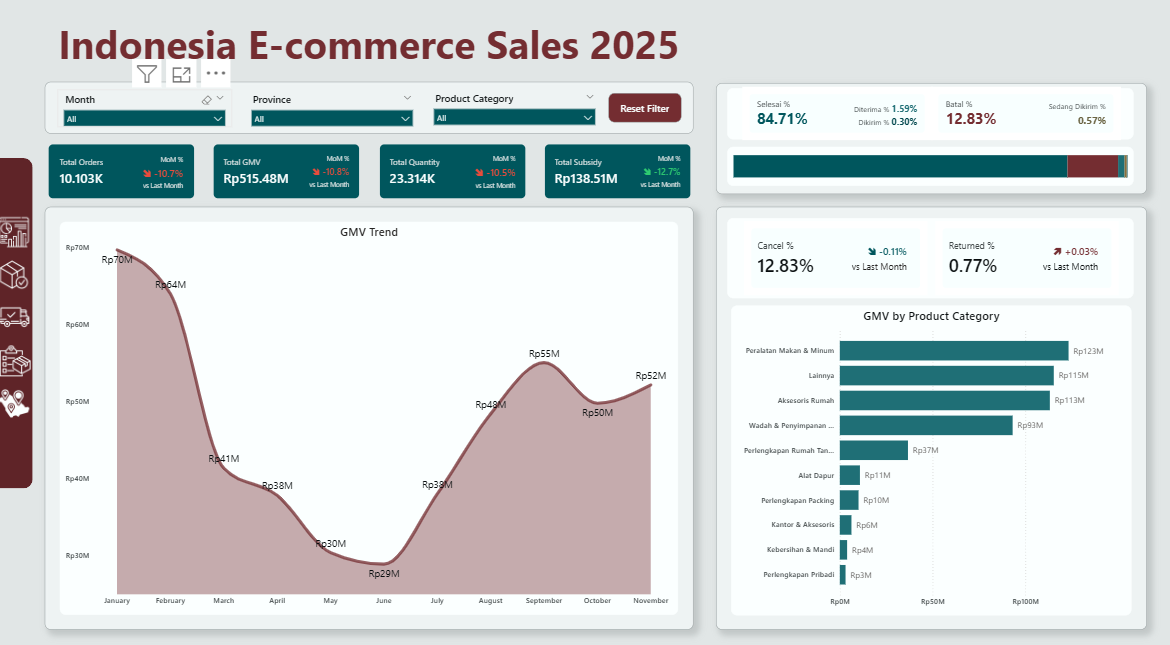

What the dashboard file says about the page in this screenshot:
{"tool":"powerbi","page":{"name":"Exec Summary","canvas":[1920,1080],"ordinal":0},"visuals":[{"type":"shape","box":[0,0,1920,1080],"z":0},{"type":"shape","box":[1176.2,146.2,704,181.2],"z":1000},{"type":"shape","box":[80,145.6,1060,84.4],"z":2000},{"type":"slicer","fields":{"Values":["Calendar.Date.Variation.Date Hierarchy.Month"]},"box":[101,156.5,285.3,64.7],"z":3000},{"type":"slicer","fields":{"Values":["Indonesia E-Commerce Sales 2025 (Kaggle).Provinsi"]},"box":[407,156.5,285.3,64.7],"z":4000},{"type":"slicer","fields":{"Values":["Indonesia E-Commerce Sales 2025 (Kaggle).product_category"]},"box":[704,154.7,285.3,64.7],"z":5000},{"type":"shape","box":[1175.7,348.6,704.3,691.4],"z":6000},{"type":"shape","box":[80,348.6,1060,691.4],"z":7000},{"type":"shape","title":"Reset Filter","box":[1000,163,119.2,48.3],"z":8000},{"type":"shape","box":[80,32.9,1060,95.7],"z":9000},{"type":"shape","box":[1195.7,368,664.3,131],"z":10000},{"type":"cardVisual","fields":{"Data":["Indonesia E-Commerce Sales 2025 (Kaggle).Cancel %"]},"box":[1217.5,367.5,310,131.2],"z":11000},{"type":"cardVisual","fields":{"Data":["Indonesia E-Commerce Sales 2025 (Kaggle).Returned %"]},"box":[1529,367,310,131],"z":12000},{"type":"lineChart","title":"GMV Trend","fields":{"Y":["Indonesia E-Commerce Sales 2025 (Kaggle).Total GMV"],"Category":["Calendar.Date.Variation.Date Hierarchy.Month"]},"box":[105,373,1010,642],"z":13000},{"type":"barChart","title":"GMV by Product Category","fields":{"Y":["Indonesia E-Commerce Sales 2025 (Kaggle).Total GMV"],"Category":["Indonesia E-Commerce Sales 2025 (Kaggle).product_category"]},"box":[1202,510,654,506],"z":14000},{"type":"shape","box":[1195.7,252,664.3,64.3],"z":15000},{"type":"shape","box":[1195.7,155,664.3,84],"z":16000},{"type":"cardVisual","fields":{"Data":["Indonesia E-Commerce Sales 2025 (Kaggle).Selesai %"]},"box":[1218.9,152.2,310,87.8],"z":17000},{"type":"cardVisual","fields":{"Data":["Indonesia E-Commerce Sales 2025 (Kaggle).Batal %"]},"box":[1527.8,152.2,310,87.8],"z":18000},{"type":"cardVisual","fields":{"Data":["Indonesia E-Commerce Sales 2025 (Kaggle).Total Orders"]},"box":[80,240,250,100],"z":19000},{"type":"cardVisual","fields":{"Data":["Indonesia E-Commerce Sales 2025 (Kaggle).Total Subsidi (Ongkir)"]},"box":[890,240,250,100],"z":20000},{"type":"cardVisual","fields":{"Data":["Indonesia E-Commerce Sales 2025 (Kaggle).Total Quantity"]},"box":[620,240,250,100],"z":21000},{"type":"cardVisual","fields":{"Data":["Indonesia E-Commerce Sales 2025 (Kaggle).Total GMV"]},"box":[350,240,250,100],"z":22000},{"type":"hundredPercentStackedBarChart","fields":{"Y":["Indonesia E-Commerce Sales 2025 (Kaggle).Total Orders"],"Series":["Indonesia E-Commerce Sales 2025 (Kaggle).status_pesanan"]},"box":[1205.7,221.4,644.3,117.1],"z":23000},{"type":"shape","box":[0,270,60,540],"z":24000},{"type":"image","box":[5,365,50,50],"z":25000},{"type":"image","box":[4.5,435,50,50],"z":26000},{"type":"image","box":[4.5,505,50,50],"z":27000},{"type":"image","box":[5.5,575,50,50],"z":28000},{"type":"image","box":[4.5,645,50,50],"z":29000}]}

Visuals, with their boxes on the page's 1920x1080 design canvas (x1, y1, x2, y2). These are canvas units, not pixel positions in the 1170x645 screenshot, which may show the page scaled, cropped or inside an application window:
shape: x1=0 y1=0 x2=1920 y2=1080
shape: x1=1176 y1=146 x2=1880 y2=327
shape: x1=80 y1=146 x2=1140 y2=230
slicer - Calendar.Date.Variation.Date Hierarchy.Month: x1=101 y1=156 x2=386 y2=221
slicer - Indonesia E-Commerce Sales 2025 (Kaggle).Provinsi: x1=407 y1=156 x2=692 y2=221
slicer - Indonesia E-Commerce Sales 2025 (Kaggle).product_category: x1=704 y1=155 x2=989 y2=219
shape: x1=1176 y1=349 x2=1880 y2=1040
shape: x1=80 y1=349 x2=1140 y2=1040
"Reset Filter" shape: x1=1000 y1=163 x2=1119 y2=211
shape: x1=80 y1=33 x2=1140 y2=129
shape: x1=1196 y1=368 x2=1860 y2=499
cardVisual - Indonesia E-Commerce Sales 2025 (Kaggle).Cancel %: x1=1218 y1=368 x2=1528 y2=499
cardVisual - Indonesia E-Commerce Sales 2025 (Kaggle).Returned %: x1=1529 y1=367 x2=1839 y2=498
"GMV Trend" lineChart: x1=105 y1=373 x2=1115 y2=1015
"GMV by Product Category" barChart: x1=1202 y1=510 x2=1856 y2=1016
shape: x1=1196 y1=252 x2=1860 y2=316
shape: x1=1196 y1=155 x2=1860 y2=239
cardVisual - Indonesia E-Commerce Sales 2025 (Kaggle).Selesai %: x1=1219 y1=152 x2=1529 y2=240
cardVisual - Indonesia E-Commerce Sales 2025 (Kaggle).Batal %: x1=1528 y1=152 x2=1838 y2=240
cardVisual - Indonesia E-Commerce Sales 2025 (Kaggle).Total Orders: x1=80 y1=240 x2=330 y2=340
cardVisual - Indonesia E-Commerce Sales 2025 (Kaggle).Total Subsidi (Ongkir): x1=890 y1=240 x2=1140 y2=340
cardVisual - Indonesia E-Commerce Sales 2025 (Kaggle).Total Quantity: x1=620 y1=240 x2=870 y2=340
cardVisual - Indonesia E-Commerce Sales 2025 (Kaggle).Total GMV: x1=350 y1=240 x2=600 y2=340
hundredPercentStackedBarChart - Indonesia E-Commerce Sales 2025 (Kaggle).Total Orders x Indonesia E-Commerce Sales 2025 (Kaggle).status_pesanan: x1=1206 y1=221 x2=1850 y2=338
shape: x1=0 y1=270 x2=60 y2=810
image: x1=5 y1=365 x2=55 y2=415
image: x1=4 y1=435 x2=54 y2=485
image: x1=4 y1=505 x2=54 y2=555
image: x1=6 y1=575 x2=56 y2=625
image: x1=4 y1=645 x2=54 y2=695
